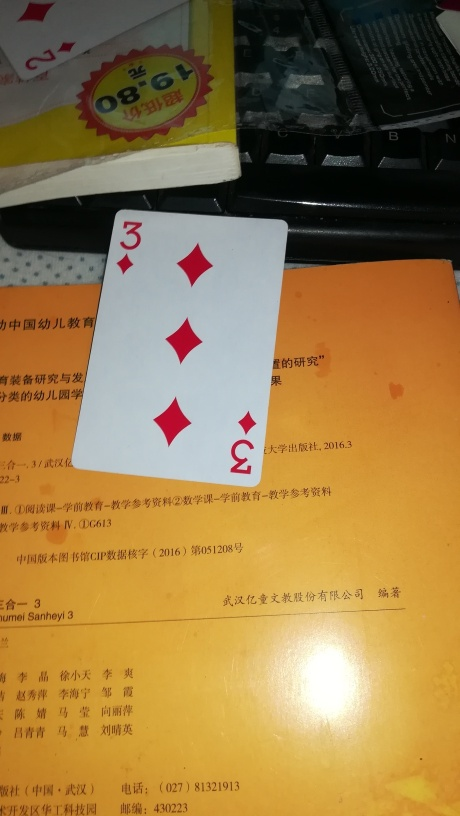fk 3: (71, 201, 295, 499)
